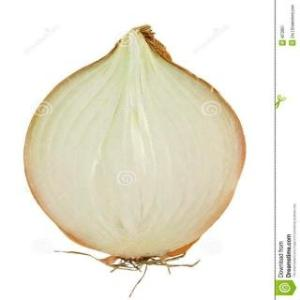onion: (21, 26, 248, 270)
